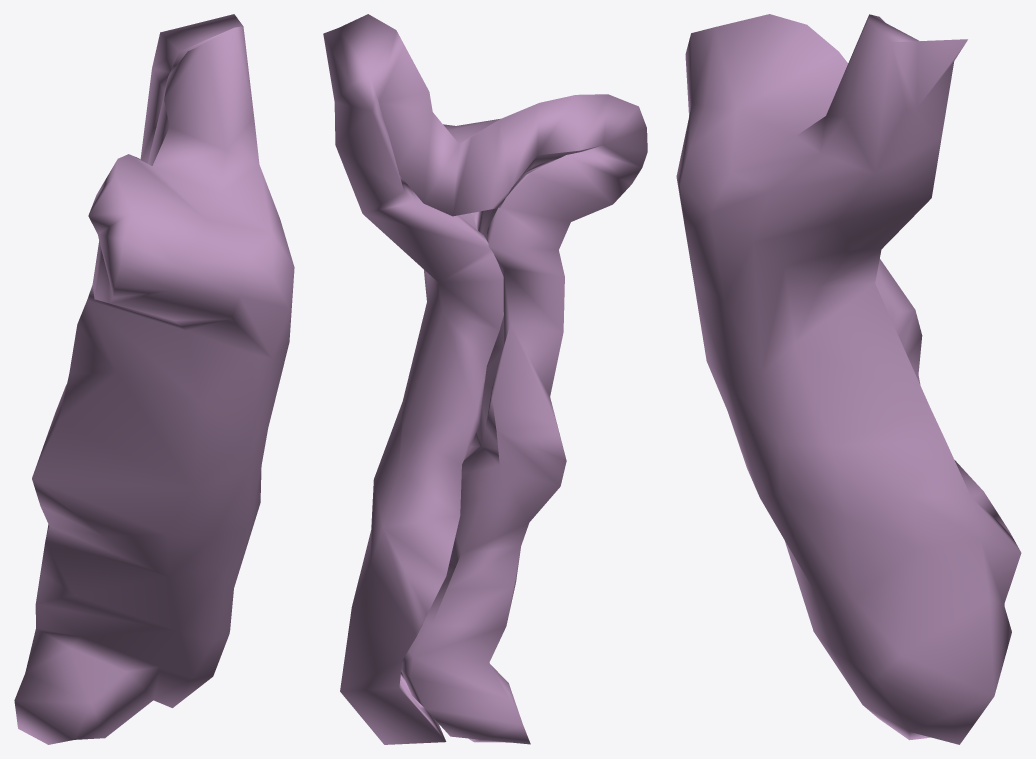
3 views of the same model, side by side, from view 1: azimuth 30°, elevation 25°; view 2: azimuth 150°, elevation 25°; view 3: azimuth 270°, elevation 25° (orthographic). The views are drawn at different scales.
Visible parts, largest first — view 1: 右侧枕颞沟外侧部; view 2: 右侧枕颞沟外侧部; view 3: 右侧枕颞沟外侧部.
Boxes of the visible parts, box(x1,y1,x2,y2) form: 右侧枕颞沟外侧部: box(14, 14, 294, 744); 右侧枕颞沟外侧部: box(323, 14, 647, 744); 右侧枕颞沟外侧部: box(676, 14, 1021, 744).
Size of the model in its own units: 0.0192 by 0.0568 by 0.0235.
